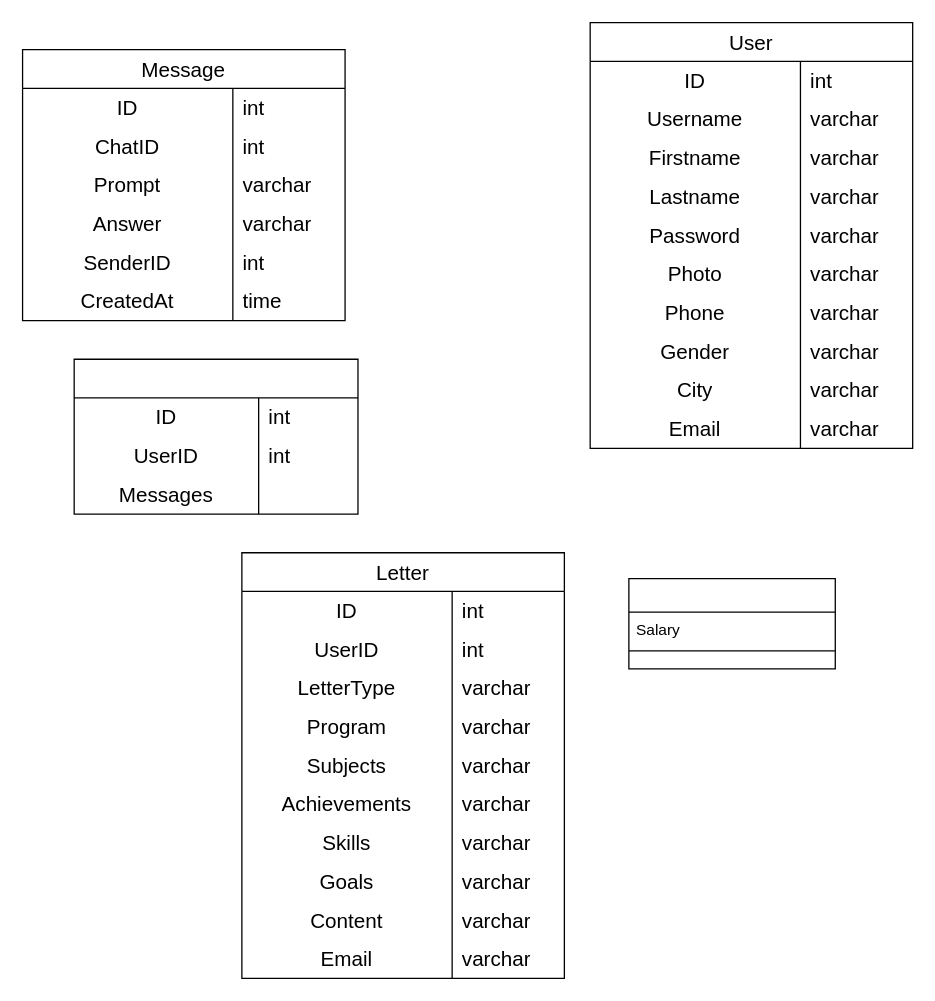
Image size: 935x1001. Some labels were removed from this diagram. The shapes that lost their labels are listed below. From the top down, each one's box as (x1, y1, x2, y2) in pixels, then its label:
(73, 358, 358, 514): Chat
(628, 577, 835, 669): Professor
